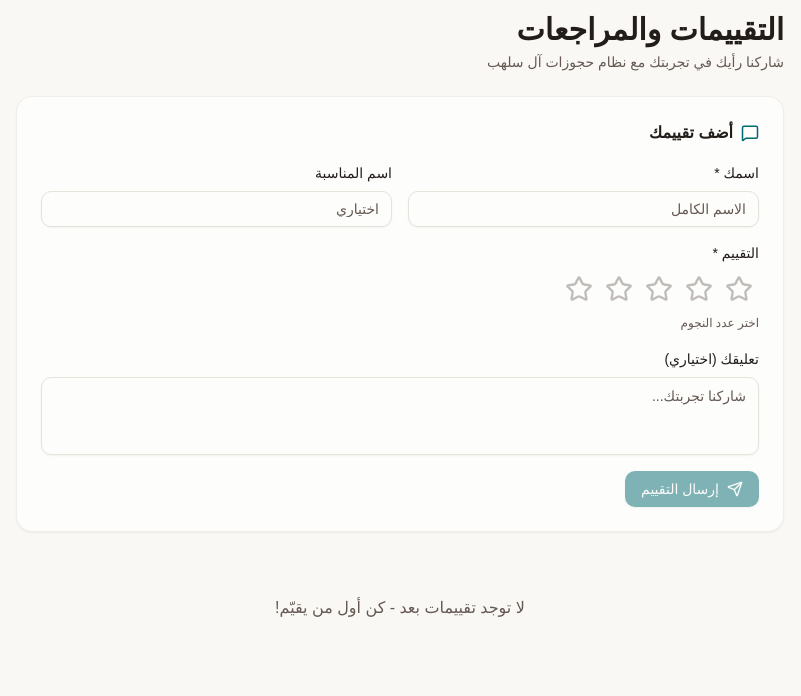
Test: ReviewsPage › keeps submit disabled until a rating is chosen, then submits
The image size is (801, 696).
Expected: the text "لا توجد تقييمات بعد - كن أول من يقيّم!" is shown, left=275, top=599, right=525, bottom=616
Expected: the button "إرسال التقييم" is disabled, left=625, top=471, right=759, bottom=507
In the field labelled "اسمك *": (584, 209) left=408, top=191, right=759, bottom=227, type "منى"
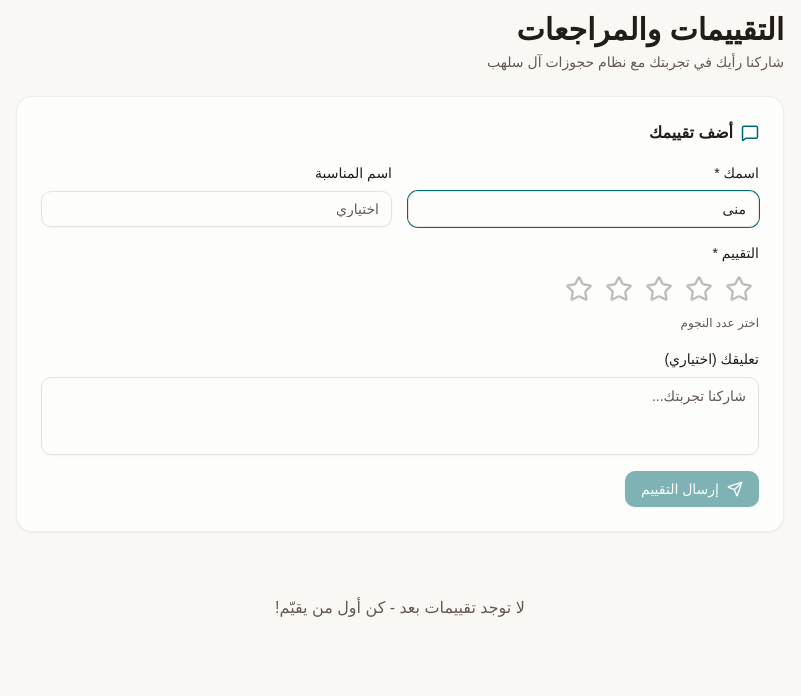
In the field labelled "اسم المناسبة": (216, 209) left=41, top=191, right=392, bottom=227, type "خطبة"
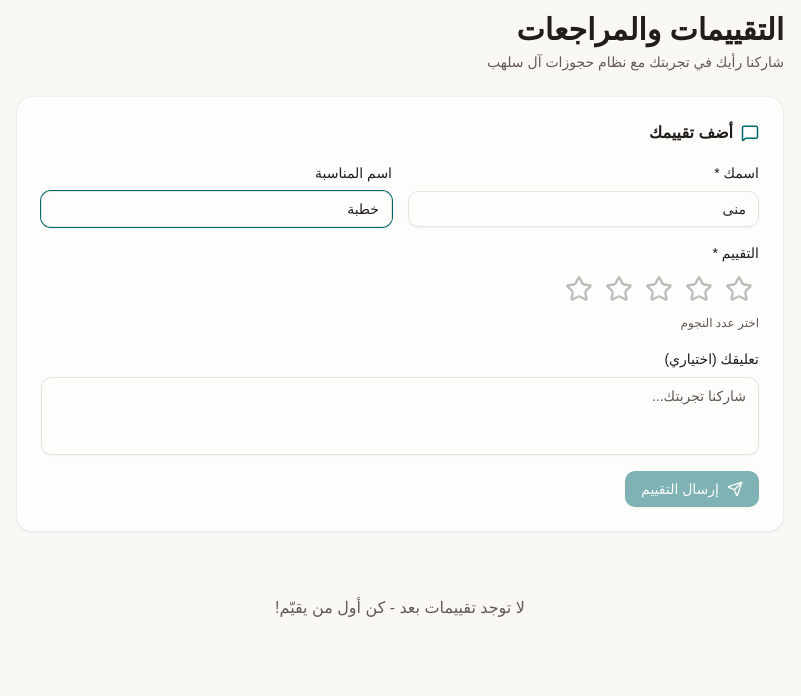
In the text box labelled "تعليقك (اختياري)": (400, 416) left=41, top=377, right=759, bottom=455, type "جميل"
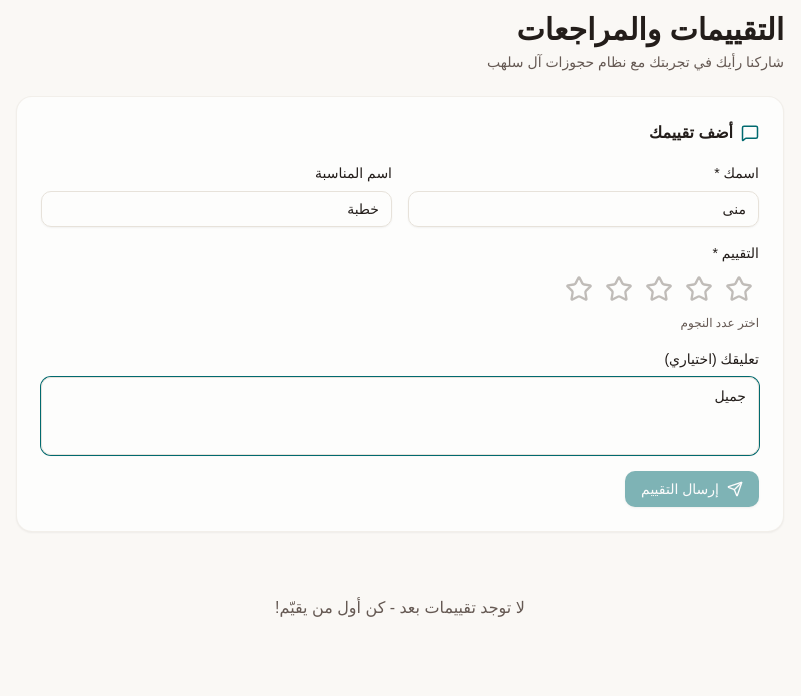
Click the button named "4 من 5": (619, 289) left=599, top=269, right=639, bottom=309
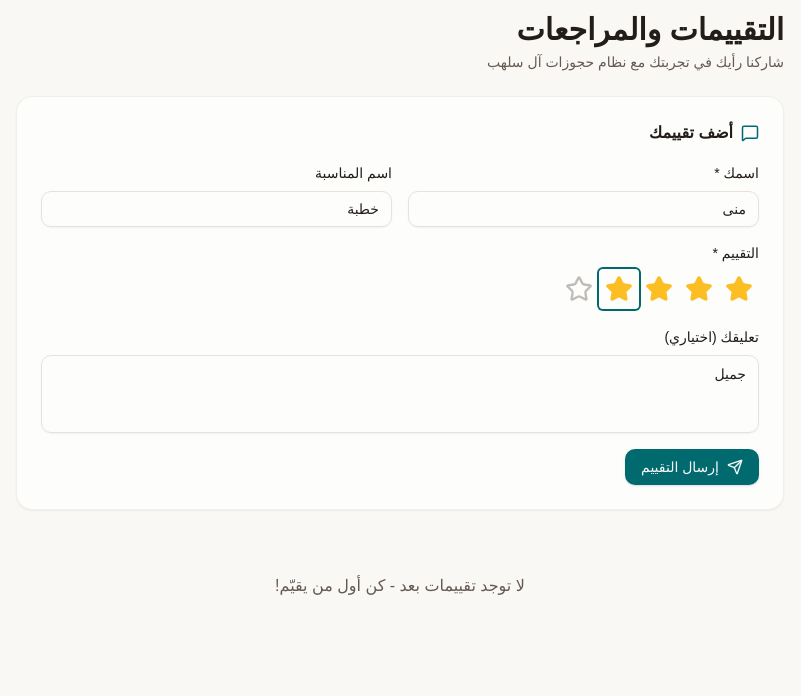
Result: the button "إرسال التقييم" is enabled
Click the button "إرسال التقييم": (692, 467) left=625, top=449, right=759, bottom=485
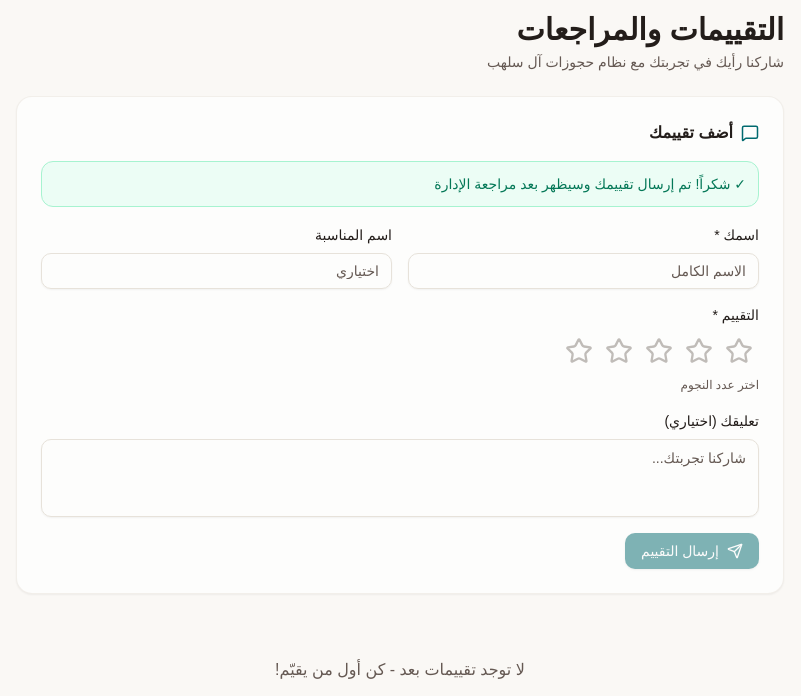
Result: the text "✓ شكراً! تم إرسال تقييمك وسيظهر بعد مراجعة الإدارة" is shown at left=434, top=176, right=746, bottom=192
Result: the field labelled "اسمك *" is empty at left=408, top=253, right=759, bottom=289
